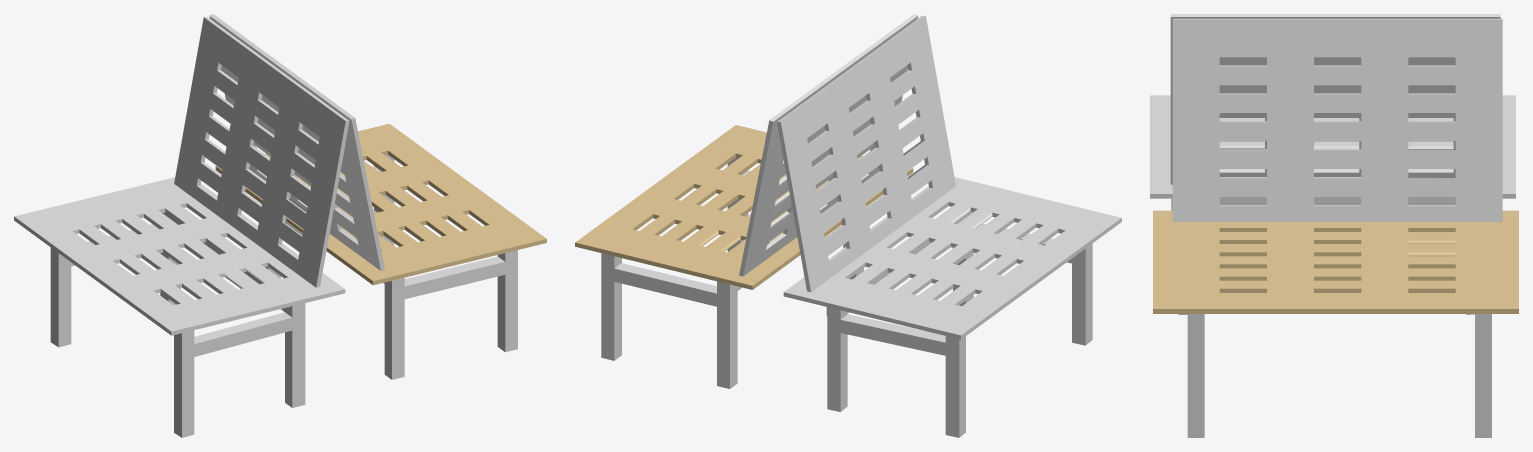
The model's file is silla_sala_espera.fbx.
The picture shows the model from 3 angles, left to right: view 1: azimuth 30°, elevation 25°; view 2: azimuth 150°, elevation 25°; view 3: azimuth 270°, elevation 25°; orthographic projection. The views are drawn at different scales.
Visible parts, largest first — view 1: Cube.008, Cube.007, Cube.006, Cube.005, Cube.010, Cube.002, Cube.014, Cube.011, Cube.001; view 2: Cube.008, Cube.007, Cube.006, Cube.005, Cube.003, Cube.011, Cube.010, Cube.004, Cube.012; view 3: Cube.005, Cube.006, Cube.008, Cube.007, Cube.002, Cube.003, Cube.014.
Boxes of the visible parts, x1,y1,x2,y2 form: Cube.008: [174, 17, 349, 287]; Cube.007: [14, 177, 345, 335]; Cube.006: [215, 123, 546, 285]; Cube.005: [209, 14, 384, 270]; Cube.010: [174, 312, 292, 437]; Cube.002: [392, 250, 517, 352]; Cube.014: [168, 215, 305, 407]; Cube.011: [50, 224, 159, 347]; Cube.001: [383, 277, 404, 379]; Cube.008: [777, 15, 955, 292]; Cube.007: [783, 177, 1121, 339]; Cube.006: [575, 125, 913, 289]; Cube.005: [739, 14, 917, 276]; Cube.003: [601, 253, 729, 360]; Cube.011: [840, 314, 965, 437]; Cube.010: [976, 224, 1092, 345]; Cube.004: [717, 281, 737, 388]; Cube.012: [827, 307, 847, 411]; Cube.005: [1172, 18, 1502, 221]; Cube.006: [1153, 210, 1518, 313]; Cube.008: [1170, 14, 1500, 184]; Cube.007: [1150, 95, 1515, 198]; Cube.002: [1187, 314, 1204, 437]; Cube.003: [1475, 314, 1491, 437]; Cube.014: [1178, 198, 1455, 314].
Size of the model in its own units: 1175 by 826 by 857.
